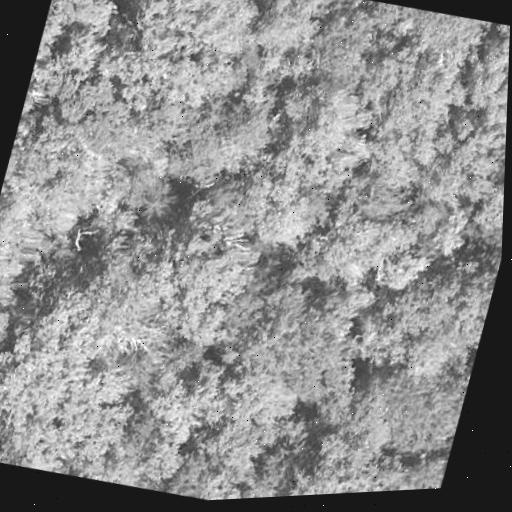tree-top: (4, 332, 156, 483), (144, 222, 291, 362), (398, 218, 503, 368), (350, 355, 471, 470), (274, 66, 394, 179), (293, 193, 415, 301), (2, 122, 115, 238), (286, 416, 433, 496), (403, 106, 507, 218), (130, 0, 272, 79), (268, 304, 367, 409), (176, 155, 279, 249), (148, 349, 242, 446), (168, 413, 265, 502), (300, 3, 384, 98), (72, 237, 151, 315), (348, 301, 421, 378), (454, 35, 510, 135), (213, 91, 280, 156), (122, 165, 182, 227), (44, 0, 131, 42), (408, 6, 475, 60), (52, 17, 107, 80), (0, 272, 24, 374), (0, 365, 15, 440)
